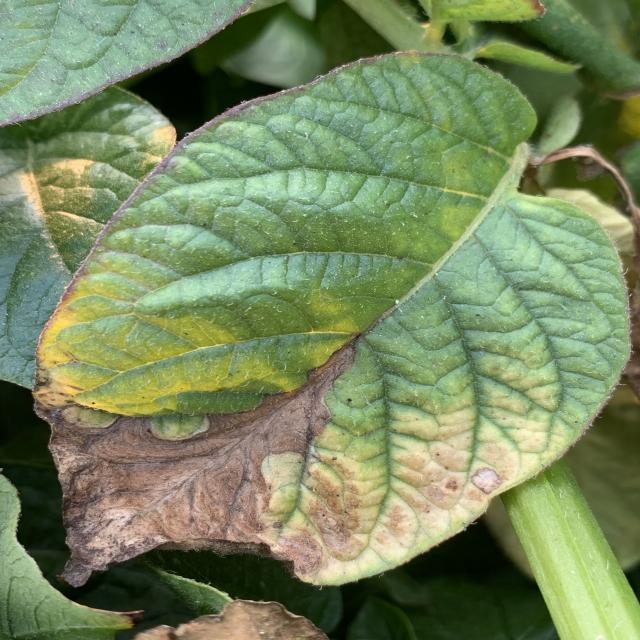lateblight: (35, 341, 355, 586), (277, 421, 388, 584), (328, 391, 385, 422), (472, 468, 503, 494)
